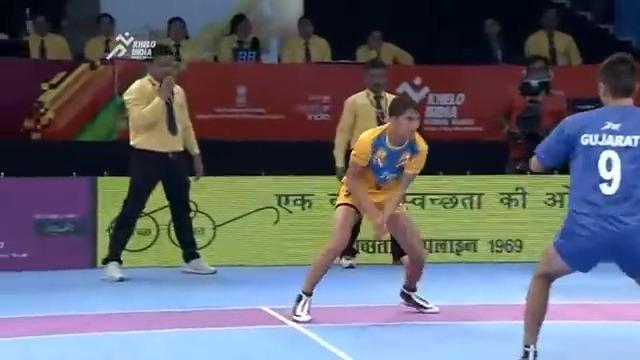Player: (518, 52, 639, 358)
Raider: (290, 92, 440, 322)
referee: (99, 42, 217, 282), (331, 57, 407, 268)
